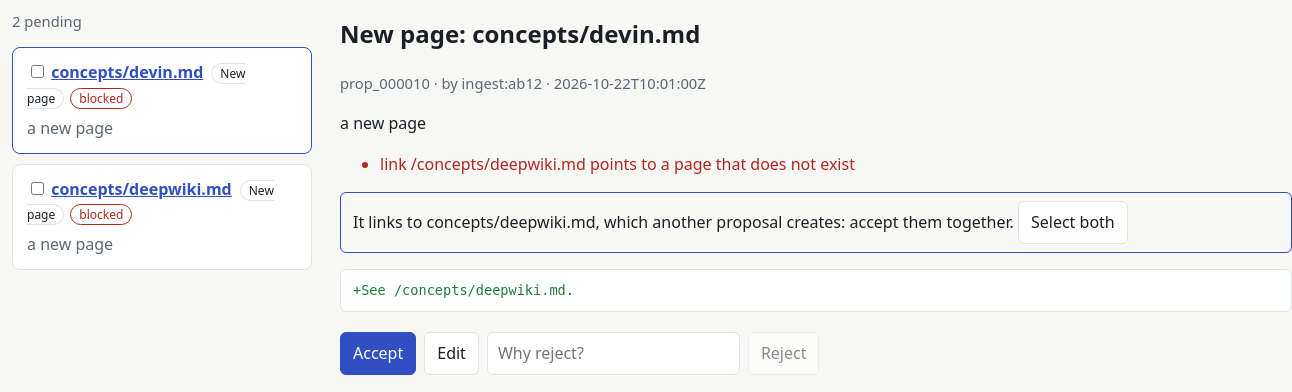
it: offers to accept pages that link to each other together
The width and height of the screenshot is (1292, 392).
Expected: the text "It links to concepts/deepwiki.md, which another proposal creates" is shown, [340,192,1291,253]
Expected: the button "together" is not shown
Click the button "Select both" at [1073, 223], box [1018,201,1128,244]
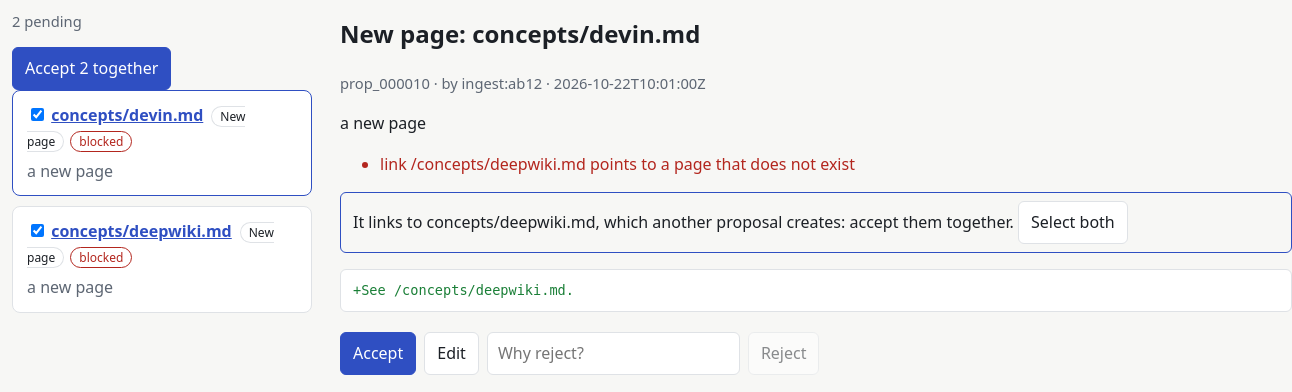
Result: the checkbox named "Select concepts/devin.md" is checked at [31,108,44,121]
Result: the checkbox named "Select concepts/deepwiki.md" is checked at [31,224,44,237]
Click the button "Accept 2 together" at [92, 69], box [12,47,171,90]
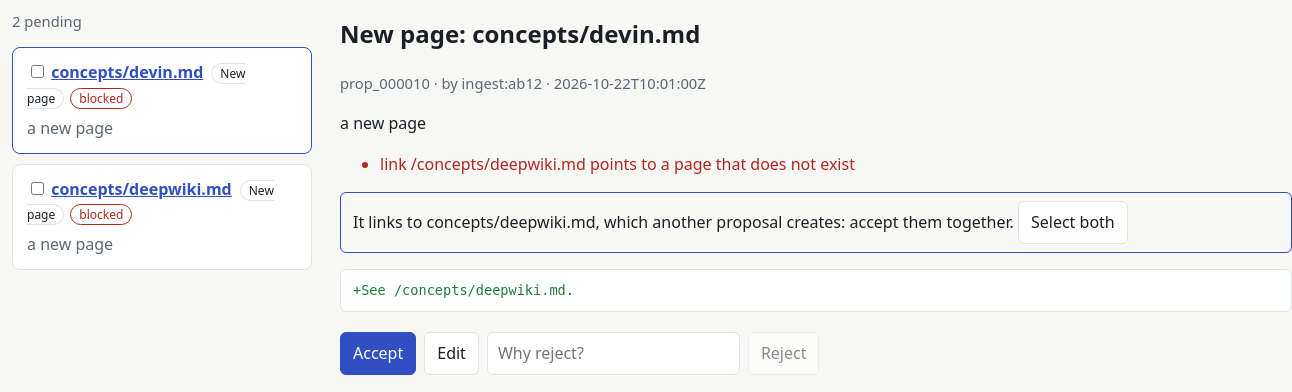
Result: the checkbox named "Select concepts/devin.md" is not checked at [31,65,44,78]
